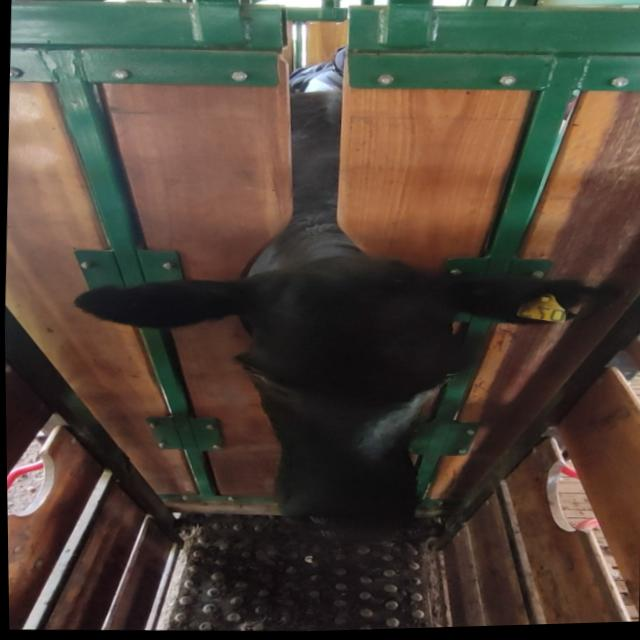cowFace: (240, 257, 482, 546)
